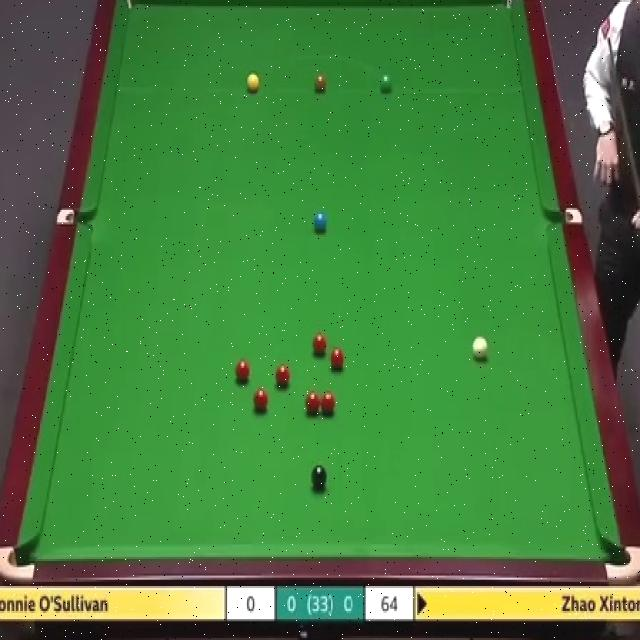black-ball: (312, 464, 328, 492)
blue-ball: (313, 212, 327, 230)
brown-ball: (313, 75, 327, 92)
green-ball: (381, 72, 394, 92)
red-ball: (320, 390, 336, 417), (274, 362, 290, 387), (306, 390, 321, 416), (313, 334, 328, 357), (254, 387, 268, 411), (330, 348, 345, 370), (236, 358, 251, 380)
white-ball: (473, 337, 489, 360)
yellow-ball: (245, 73, 260, 94)
